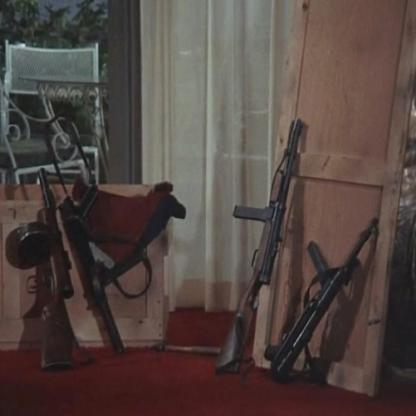Guns: (208, 113, 385, 402), (4, 157, 125, 374)
